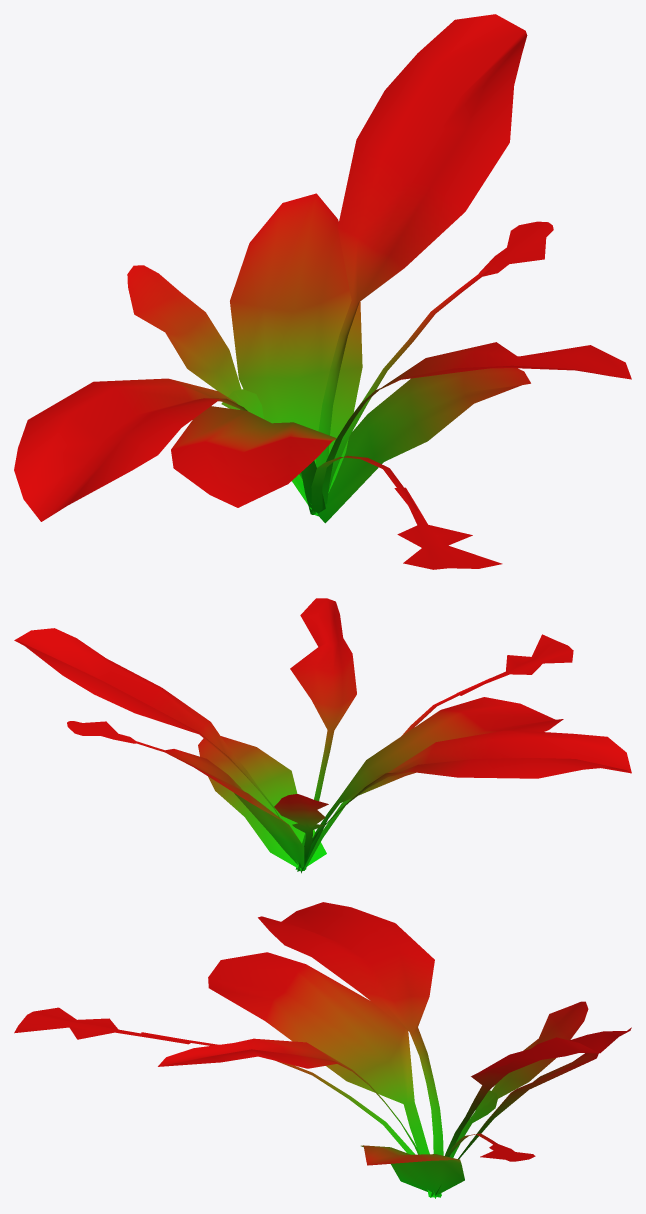
Rendered from Var20_LOD0.fbx.
3 views of the same model, one above another, from view 1: azimuth 30°, elevation 25°; view 2: azimuth 150°, elevation 25°; view 3: azimuth 270°, elevation 25° (orthographic). The views are drawn at different scales.
Visible parts, largest first — view 1: _9p8z_Var20_LOD0; view 2: _9p8z_Var20_LOD0; view 3: _9p8z_Var20_LOD0.
Part boxes in pixels (box(x1,y1,x2,y2)): _9p8z_Var20_LOD0: box(14, 14, 631, 569); _9p8z_Var20_LOD0: box(14, 598, 631, 873); _9p8z_Var20_LOD0: box(14, 902, 631, 1198).
Size of the model in its own units: 21.33 by 10.17 by 20.79.
